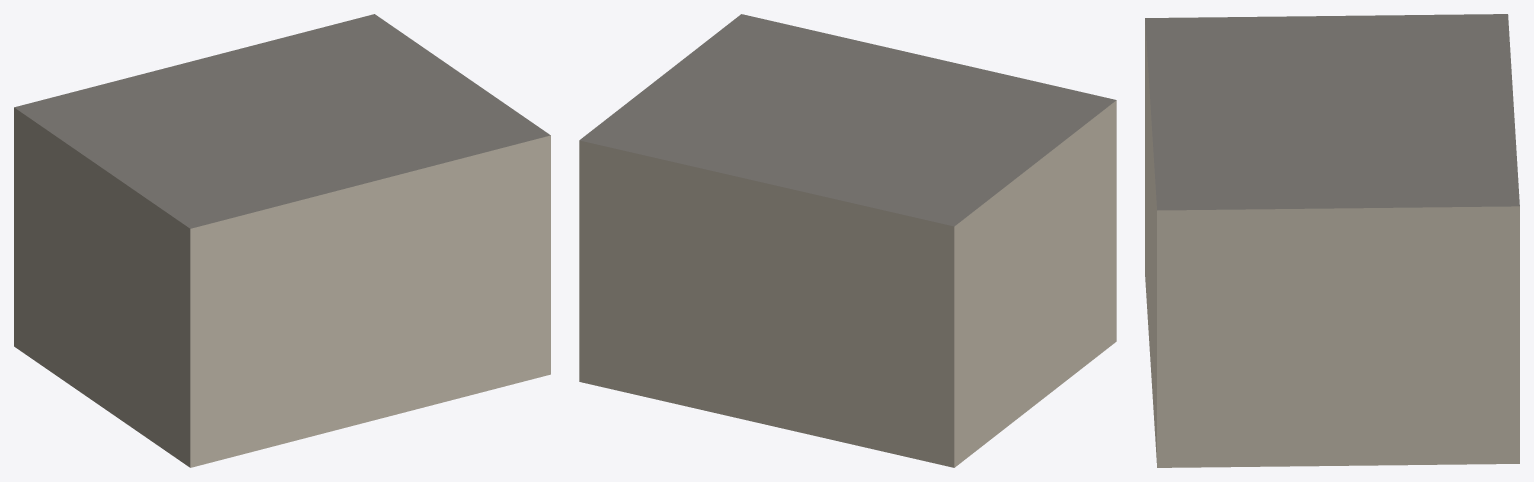
The picture shows the model from 3 angles, left to right: view 1: azimuth 30°, elevation 25°; view 2: azimuth 150°, elevation 25°; view 3: azimuth 270°, elevation 25°; orthographic projection. The views are drawn at different scales.
Parts seen in each view (by area): view 1: HP-w369317510; view 2: HP-w369317510; view 3: HP-w369317510.
Boxes of the visible parts, box(x1,y1,x2,y2) form: HP-w369317510: box(14, 14, 550, 467); HP-w369317510: box(579, 14, 1116, 467); HP-w369317510: box(1145, 14, 1519, 467).
Size of the model in its own units: 19.64 by 12 by 15.83.
